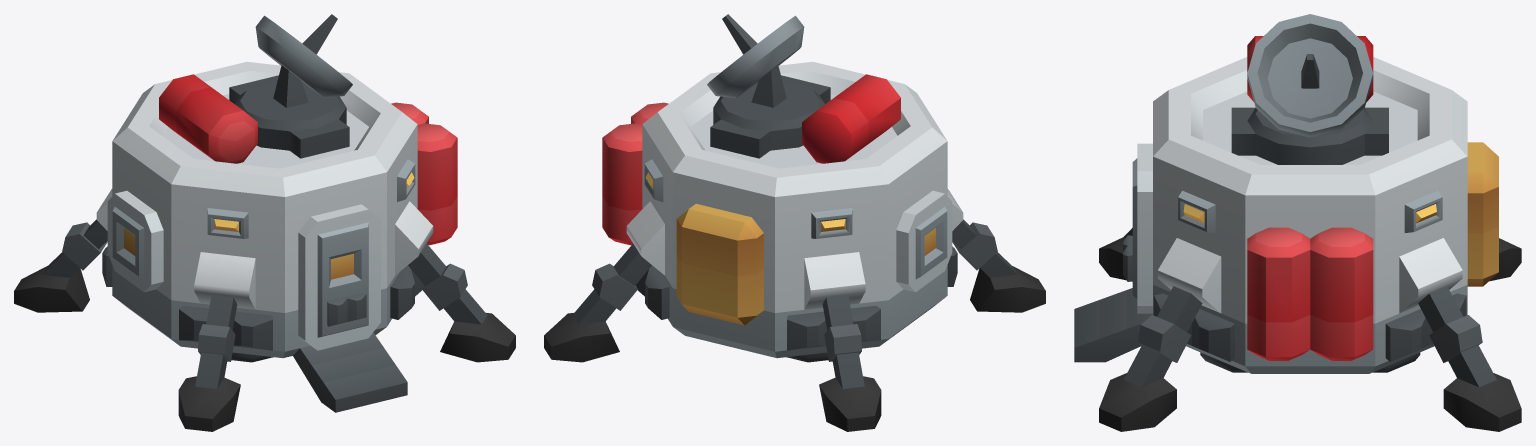
Rendered from lander.glb.
The picture shows the model from 3 angles, left to right: view 1: azimuth 30°, elevation 25°; view 2: azimuth 150°, elevation 25°; view 3: azimuth 270°, elevation 25°; orthographic projection. The views are drawn at different scales.
Visible parts, largest first — view 1: lander_A, lander_A.001; view 2: lander_A, lander_A.001; view 3: lander_A, lander_A.001.
Part boxes in pixels (bbox=[...]): lander_A: bbox=[14, 61, 515, 431]; lander_A.001: bbox=[255, 14, 352, 107]; lander_A: bbox=[544, 61, 1045, 431]; lander_A.001: bbox=[707, 14, 804, 107]; lander_A: bbox=[1074, 36, 1521, 431]; lander_A.001: bbox=[1247, 14, 1373, 137].
Size of the model in its own units: 1.37 by 1.17 by 1.42.
Materials: 1 (1 with a texture image).
